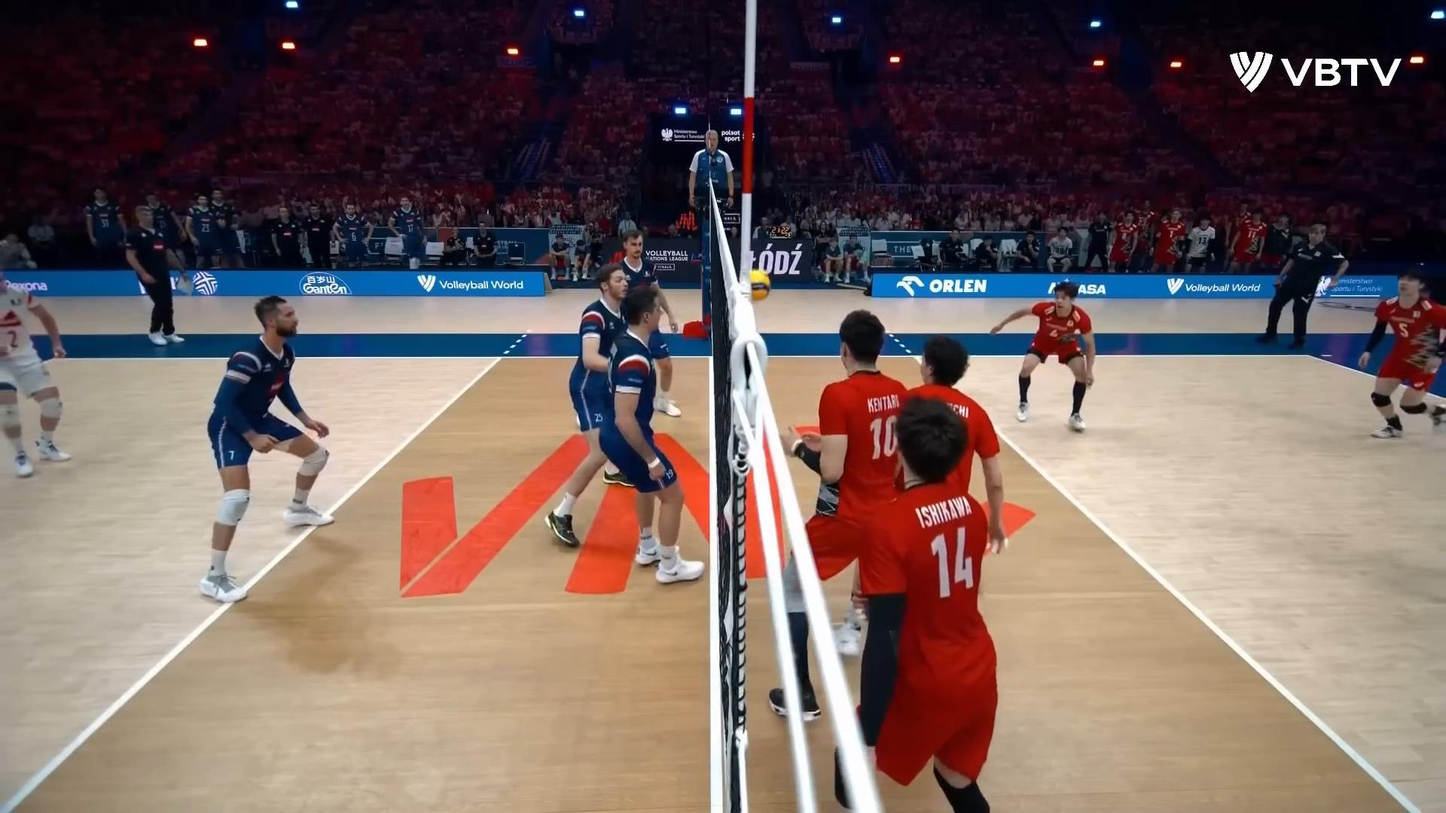ball: (745, 271, 771, 301)
